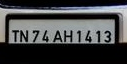1: (75, 30, 83, 43), (95, 30, 103, 43)
3: (103, 30, 112, 43)
4: (84, 30, 93, 43), (41, 30, 50, 42)
7: (32, 29, 40, 43)
A: (52, 29, 63, 42)
H: (62, 29, 74, 43)
N: (19, 29, 29, 42)
T: (11, 28, 19, 42)
